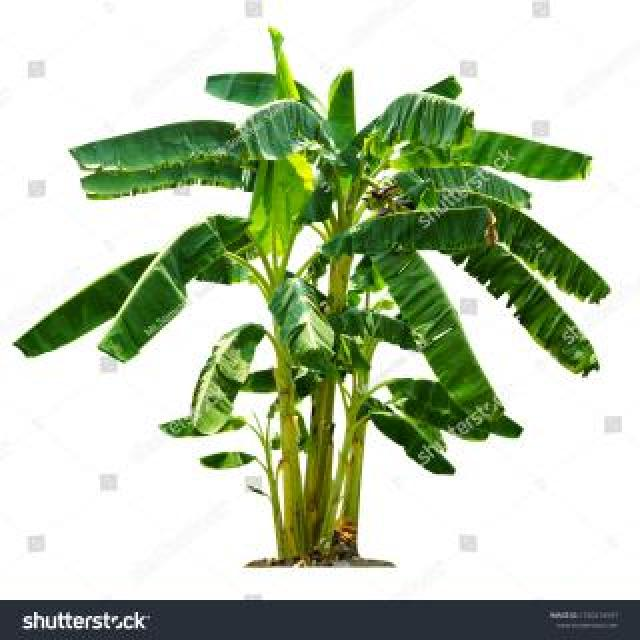Pisang: (27, 44, 606, 568)
